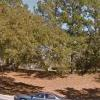Tree: (23, 2, 100, 72)
